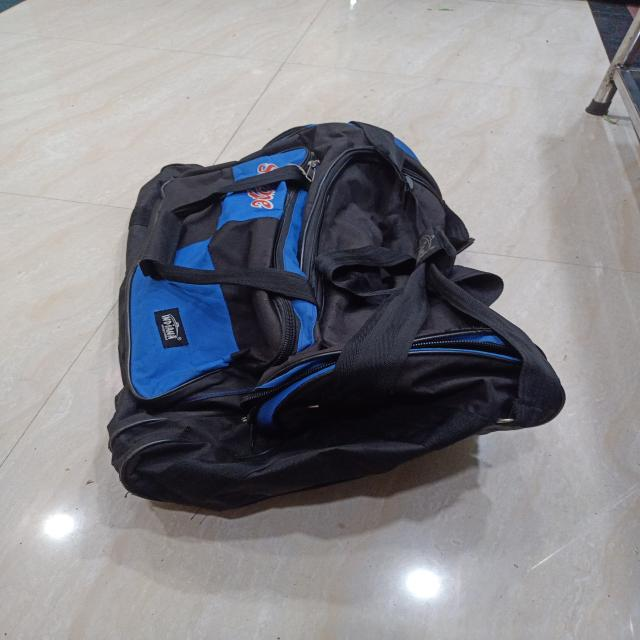suitcaserotation: (101, 118, 569, 514)
